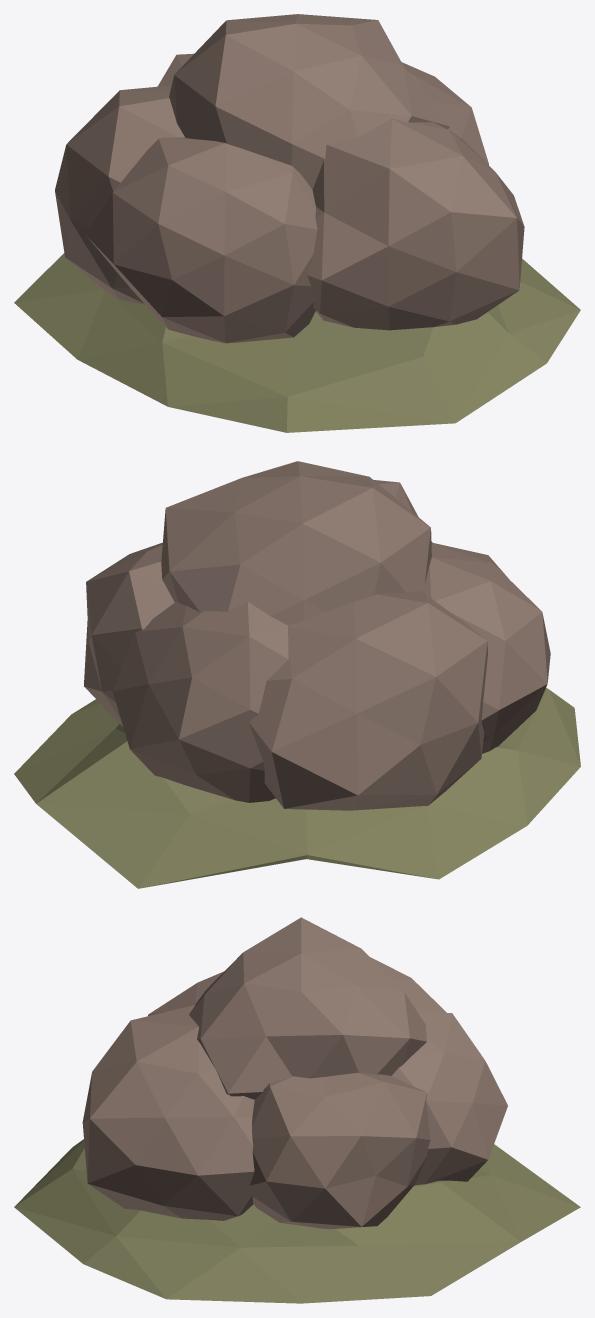
File: vge_egg_sac_b.obj
3 views of the same model, one above another, from view 1: azimuth 30°, elevation 25°; view 2: azimuth 150°, elevation 25°; view 3: azimuth 270°, elevation 25° (orthographic). The views are drawn at different scales.
Visible parts, largest first — view 1: vge_egg_sac_b_0, vge_egg_sac_b_5, vge_egg_sac_b_4, vge_egg_sac_b_6, vge_egg_sac_b_3, vge_egg_sac_b_1; view 2: vge_egg_sac_b_0, vge_egg_sac_b_3, vge_egg_sac_b_6, vge_egg_sac_b_2, vge_egg_sac_b_4, vge_egg_sac_b_1; view 3: vge_egg_sac_b_0, vge_egg_sac_b_5, vge_egg_sac_b_6, vge_egg_sac_b_1, vge_egg_sac_b_2, vge_egg_sac_b_3, vge_egg_sac_b_4.
Boxes of the visible parts, box(x1,y1,x2,y2) form: vge_egg_sac_b_0: box(14, 253, 580, 432); vge_egg_sac_b_5: box(307, 119, 524, 330); vge_egg_sac_b_4: box(86, 137, 317, 343); vge_egg_sac_b_6: box(169, 14, 449, 189); vge_egg_sac_b_3: box(55, 85, 184, 304); vge_egg_sac_b_1: box(401, 62, 488, 164); vge_egg_sac_b_0: box(14, 688, 580, 888); vge_egg_sac_b_3: box(249, 591, 487, 810); vge_egg_sac_b_6: box(161, 461, 431, 625); vge_egg_sac_b_2: box(113, 601, 288, 802); vge_egg_sac_b_4: box(420, 542, 550, 753); vge_egg_sac_b_1: box(84, 542, 174, 726); vge_egg_sac_b_0: box(14, 1139, 580, 1303); vge_egg_sac_b_5: box(82, 1005, 254, 1220); vge_egg_sac_b_6: box(189, 917, 427, 1099); vge_egg_sac_b_1: box(250, 1072, 430, 1229); vge_egg_sac_b_2: box(392, 1012, 507, 1185); vge_egg_sac_b_3: box(370, 957, 446, 1012); vge_egg_sac_b_4: box(148, 971, 223, 1015).
Bounding box in the file's own units: 0.8074 × 0.5078 × 1.01.
